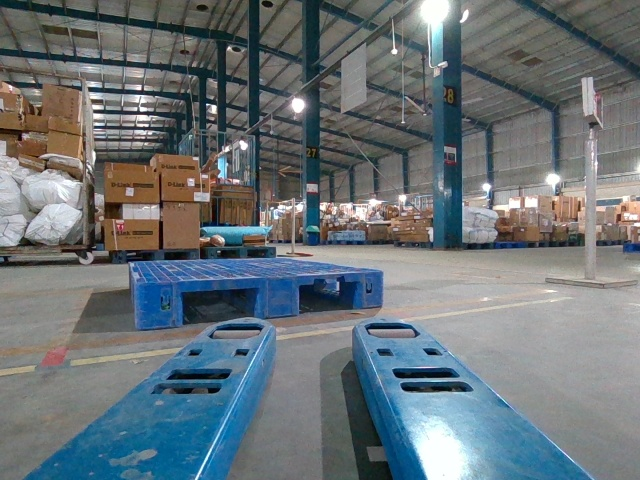block: (139, 281, 187, 331), (261, 275, 302, 321), (361, 270, 385, 311)
front: (139, 272, 383, 331)
hole pallet: (180, 284, 265, 324), (296, 279, 361, 314)
